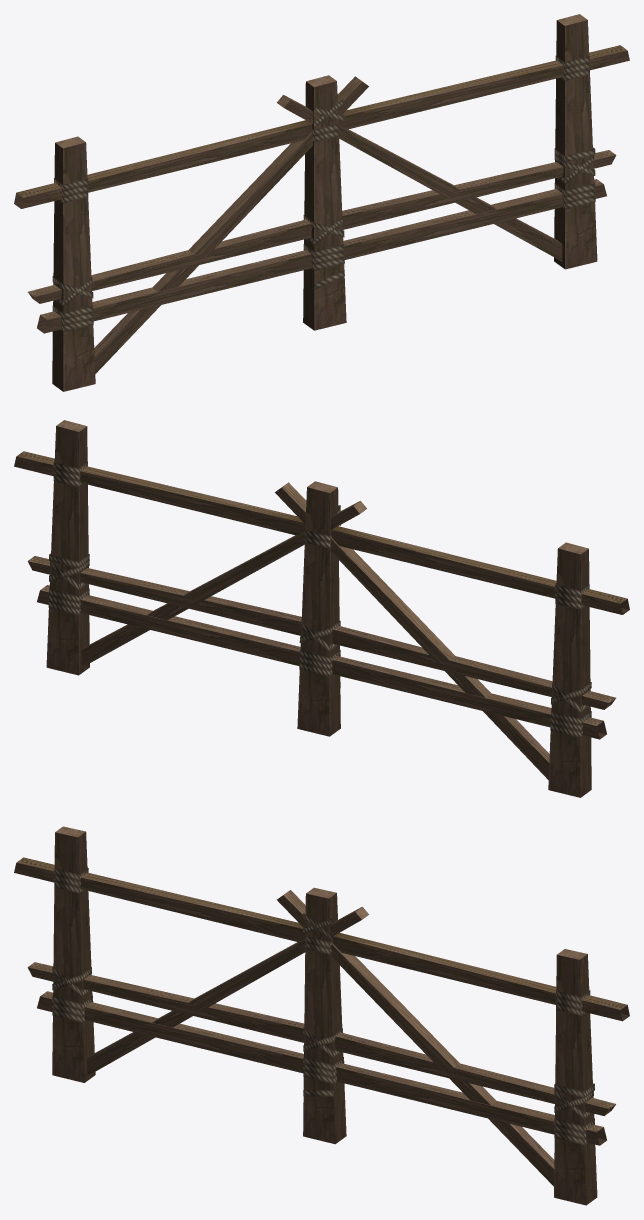
File: fld_mujia04_jgc.FBX
3 renders of one model, top to bottom at view 1: azimuth 30°, elevation 25°; view 2: azimuth 150°, elevation 25°; view 3: azimuth 330°, elevation 25°, orthographic.
Visible parts, largest first — view 1: fld_mujia04_jgc; view 2: fld_mujia04_jgc; view 3: fld_mujia04_jgc.
Boxes of the visible parts, x1,y1,x2,y2 form: fld_mujia04_jgc: (14,14,629,391); fld_mujia04_jgc: (14,420,629,797); fld_mujia04_jgc: (14,826,629,1205).
Size of the model in its own units: 31.83 by 12.12 by 1.01.
